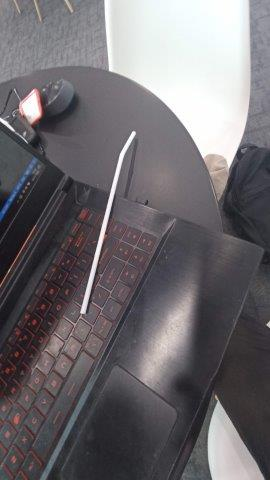sedotan: (80, 131, 136, 314)
